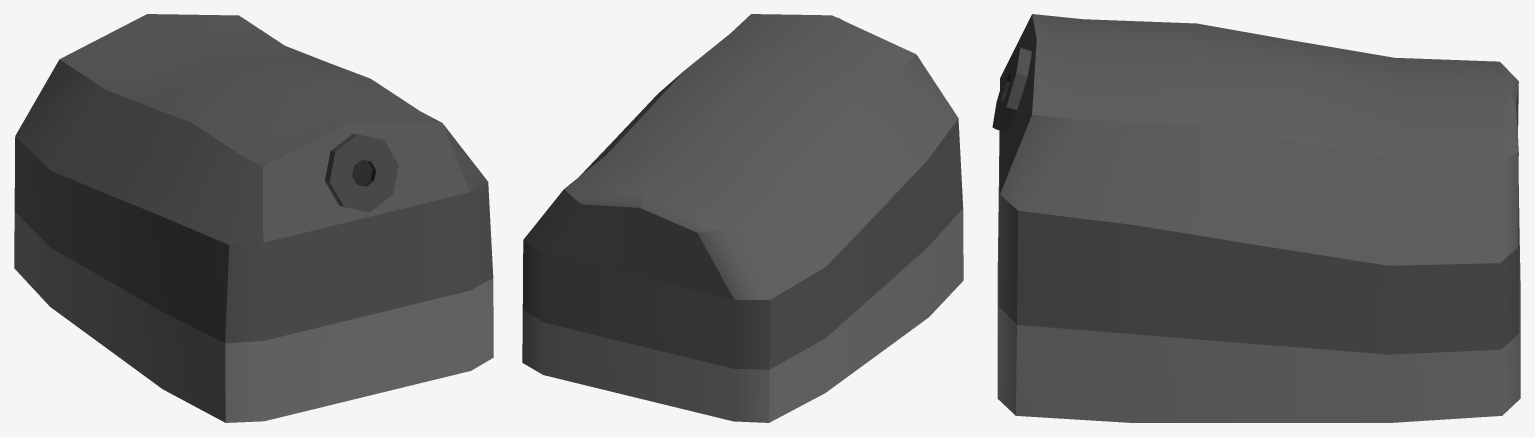
Rendered from PencilSharpener.fbx.
3 views of the same model, side by side, from view 1: azimuth 30°, elevation 25°; view 2: azimuth 150°, elevation 25°; view 3: azimuth 270°, elevation 25° (orthographic). The views are drawn at different scales.
Visible parts, largest first — view 1: PencilSharpener; view 2: PencilSharpener; view 3: PencilSharpener.
Part boxes in pixels (left/top/right/bottom): PencilSharpener: left=14, top=14, right=493, bottom=422; PencilSharpener: left=522, top=14, right=963, bottom=422; PencilSharpener: left=992, top=14, right=1520, bottom=422.
Size of the model in its own units: 2.46 by 2.1 by 3.33.
